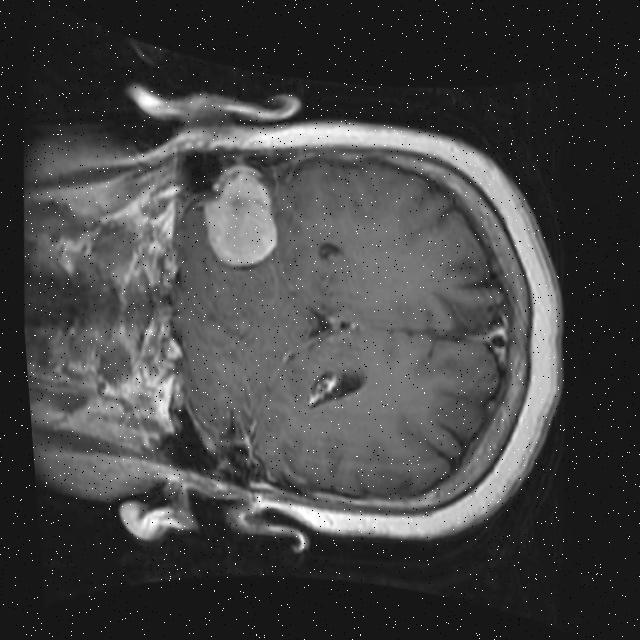Meningioma: (191, 157, 288, 276)
